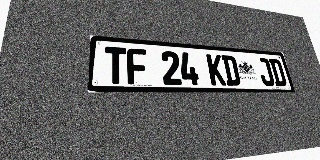2: (161, 50, 182, 85)
4: (179, 52, 199, 85)
D: (221, 55, 241, 86), (268, 59, 288, 86)
F: (127, 48, 148, 84)
J: (256, 58, 275, 86)
K: (206, 54, 226, 86)
T: (105, 46, 127, 84)
